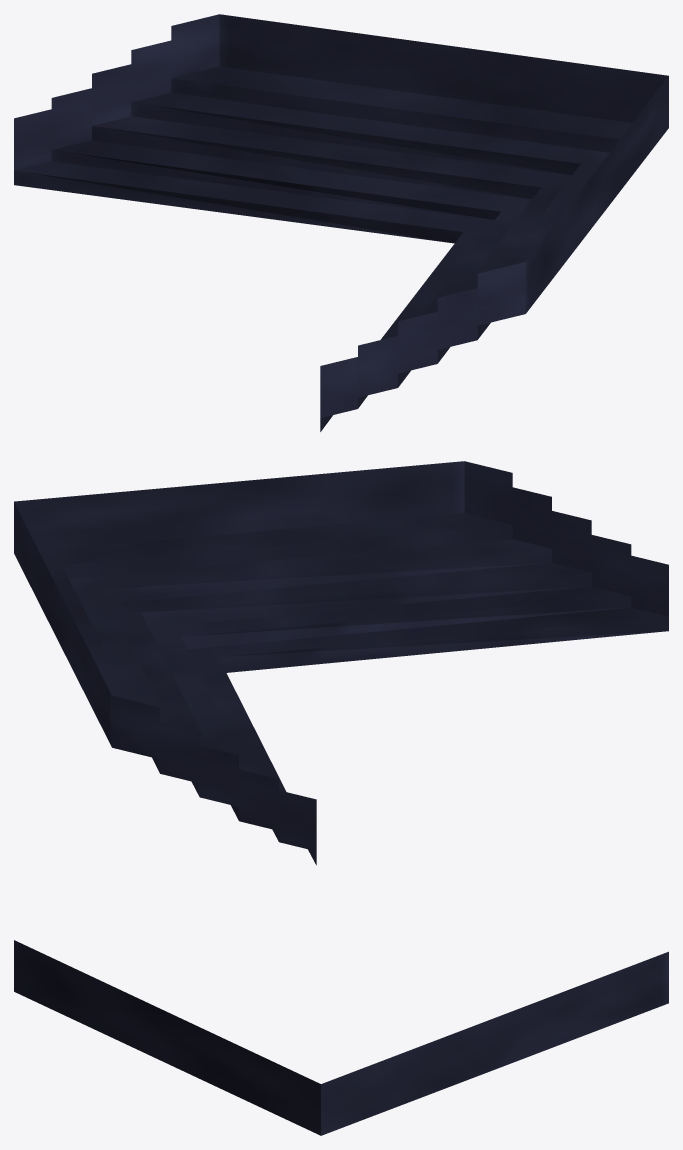
Rendered from bleacher-v2.dae.
3 views of the same model, one above another, from view 1: azimuth 30°, elevation 25°; view 2: azimuth 150°, elevation 25°; view 3: azimuth 270°, elevation 25° (orthographic).
Parts seen in each view (by area): view 1: Cube; view 2: Cube; view 3: Cube.
Part boxes in pixels (box(x1,y1,x2,y2)): Cube: box(14, 14, 668, 431); Cube: box(14, 461, 668, 865); Cube: box(14, 940, 668, 1135).
Bounding box in the file's own units: 2.49 × 2.83 × 0.57.
1 material, 1 textured.
